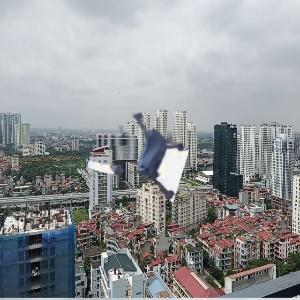drone: (90, 94, 191, 195)
